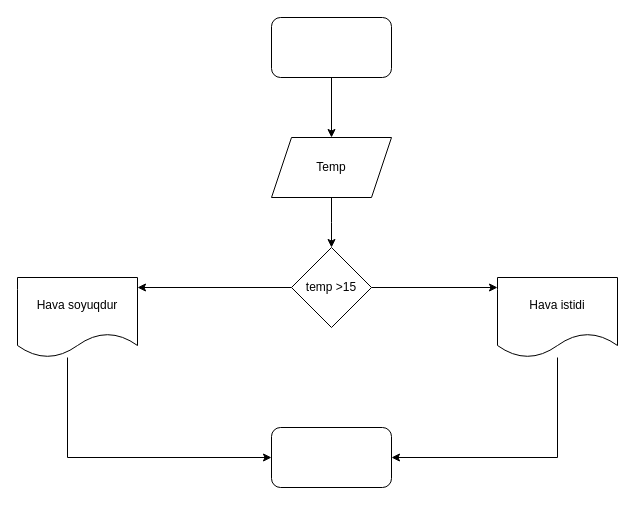
Image size: 635x505. Some labels were removed from this diagram. Here are the shapes that lost their labels. From the top down, the box of each, then its label:
(270, 16, 392, 78): Start
(270, 426, 392, 488): End
